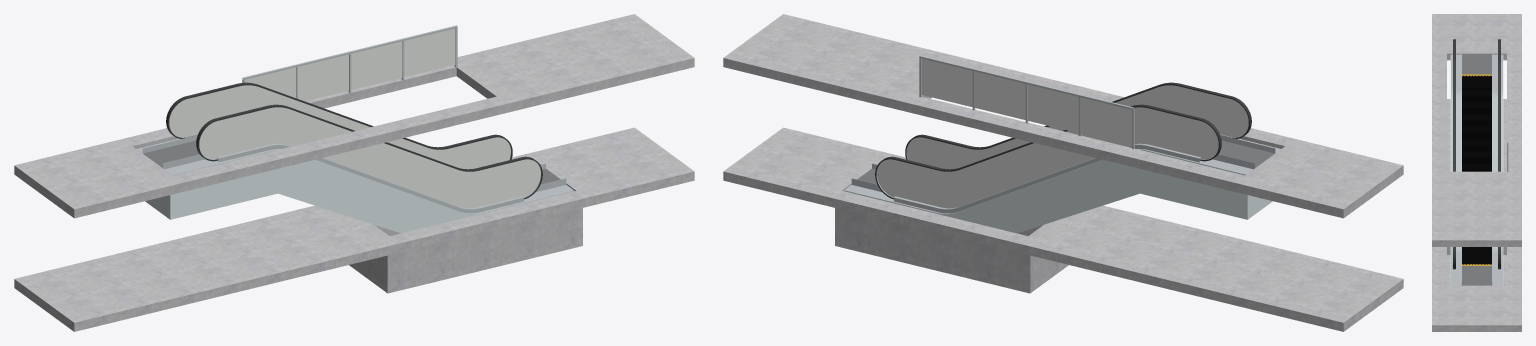
Rendered from escalator.glb.
3 views of the same model, side by side, from view 1: azimuth 30°, elevation 25°; view 2: azimuth 150°, elevation 25°; view 3: azimuth 270°, elevation 25° (orthographic). The views are drawn at different scales.
Visible parts, largest first — view 1: 底层楼板及底坑, 楼板, 电梯扶手, 外包装空腔, 固定护栏, 围裙板及侧盖板, 梳齿与端部盖板; view 2: 底层楼板及底坑, 楼板, 电梯扶手, 外包装空腔, 固定护栏, 围裙板及侧盖板, 梳齿与端部盖板; view 3: 楼板, 底层楼板及底坑, 工作梯级, 围裙板及侧盖板, 梳齿与端部盖板, 电梯扶手, 外包装空腔, 固定护栏.
Part boxes in pixels (x1=…): 底层楼板及底坑: x1=14, y1=127, x2=694, y2=331; 楼板: x1=14, y1=14, x2=694, y2=218; 电梯扶手: x1=166, y1=82, x2=542, y2=208; 外包装空腔: x1=139, y1=139, x2=573, y2=233; 固定护栏: x1=242, y1=25, x2=457, y2=101; 围裙板及侧盖板: x1=137, y1=135, x2=572, y2=213; 梳齿与端部盖板: x1=143, y1=140, x2=560, y2=184; 底层楼板及底坑: x1=723, y1=127, x2=1403, y2=331; 楼板: x1=723, y1=14, x2=1403, y2=218; 电梯扶手: x1=875, y1=82, x2=1251, y2=208; 外包装空腔: x1=844, y1=139, x2=1278, y2=233; 固定护栏: x1=919, y1=55, x2=1134, y2=149; 围裙板及侧盖板: x1=845, y1=135, x2=1280, y2=213; 梳齿与端部盖板: x1=857, y1=140, x2=1274, y2=184; 楼板: x1=1432, y1=14, x2=1521, y2=246; 底层楼板及底坑: x1=1432, y1=99, x2=1521, y2=331; 工作梯级: x1=1462, y1=75, x2=1491, y2=264; 围裙板及侧盖板: x1=1451, y1=50, x2=1502, y2=285; 梳齿与端部盖板: x1=1462, y1=53, x2=1491, y2=285; 电梯扶手: x1=1453, y1=39, x2=1500, y2=269; 外包装空腔: x1=1450, y1=55, x2=1503, y2=285; 固定护栏: x1=1507, y1=63, x2=1508, y2=171.
Bounding box in the file's own units: 14.3 × 4.6 × 2.4.
12 materials, 2 textured.
